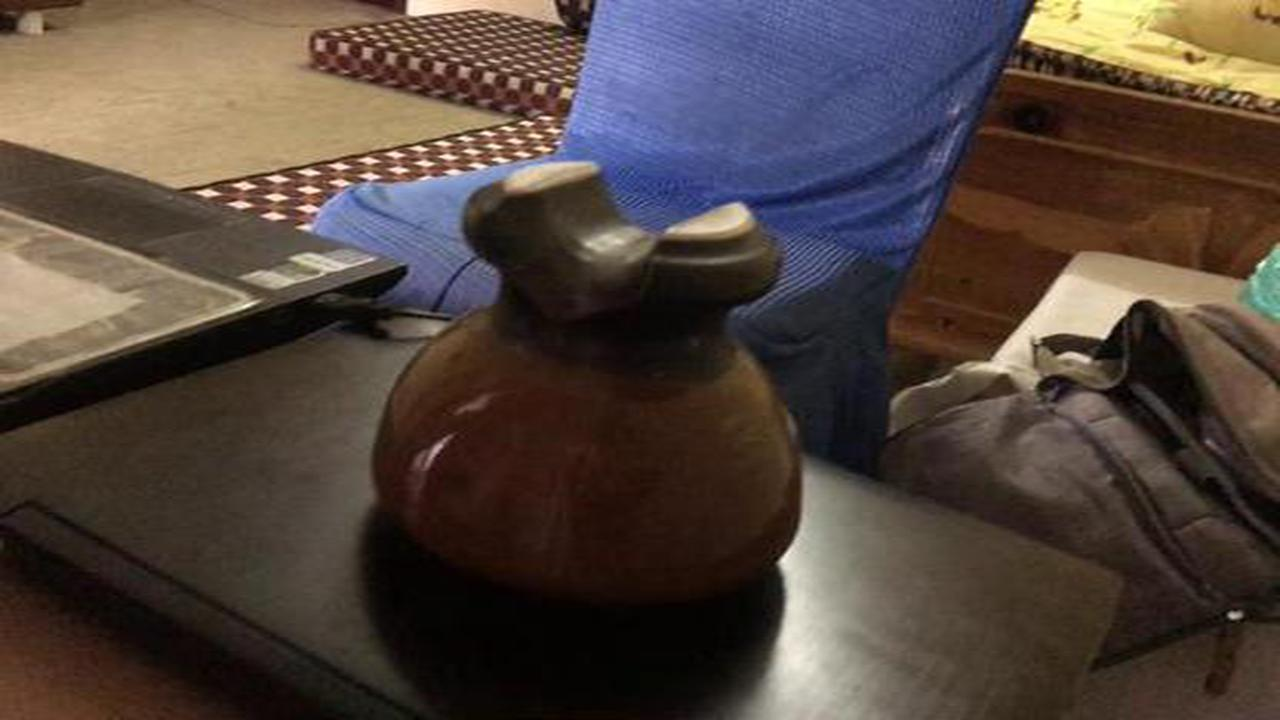insulator_pin: (351, 142, 831, 624)
